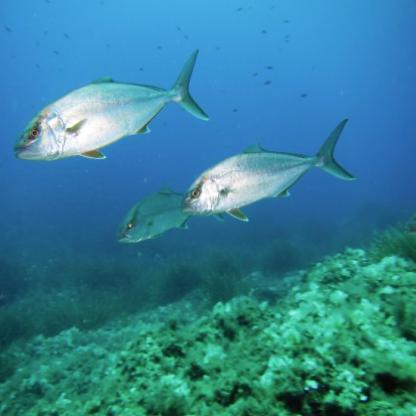jack: (12, 47, 211, 172), (181, 111, 355, 230)
